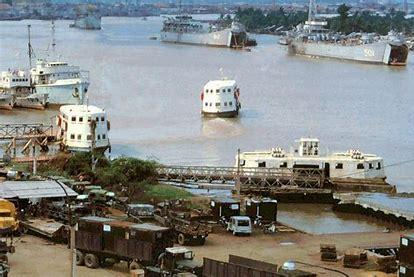Ship: (287, 7, 409, 66), (240, 139, 386, 180), (163, 16, 257, 48), (32, 60, 90, 106), (58, 106, 111, 152), (1, 70, 49, 110), (202, 81, 242, 117)
